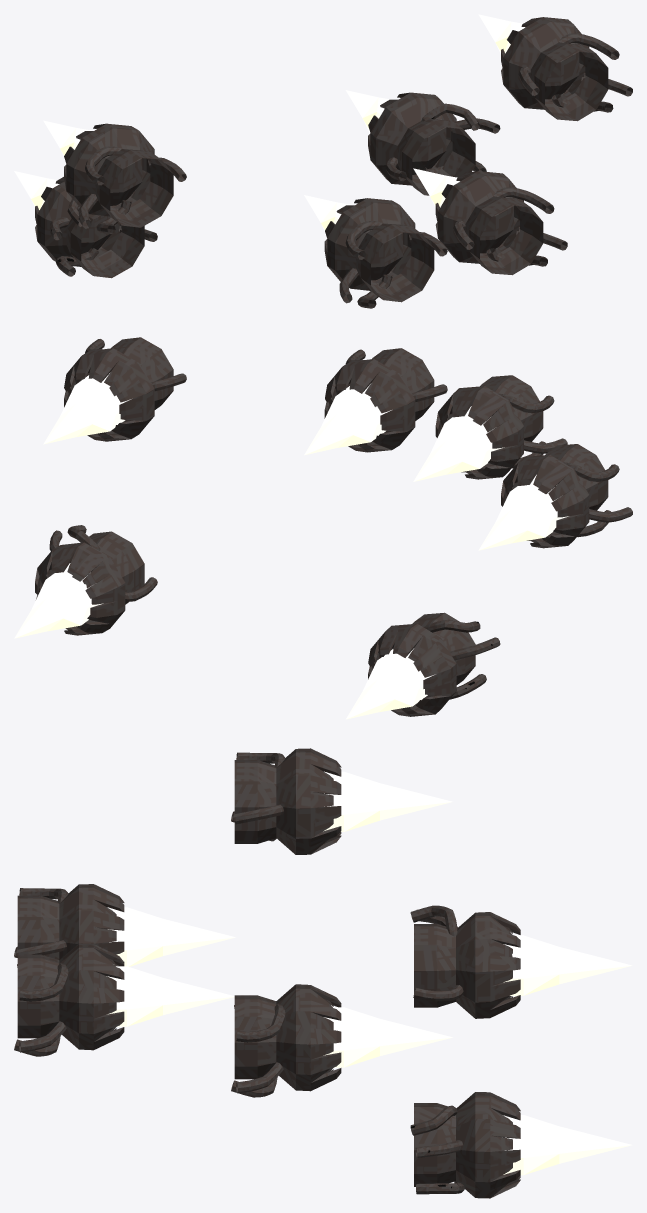
The model's file is chemical-engines.fbx.
3 renders of one model, top to bottom at view 1: azimuth 30°, elevation 25°; view 2: azimuth 150°, elevation 25°; view 3: azimuth 270°, elevation 25°, orthographic. The views are drawn at different scales.
Parts seen in each view (by area): view 1: EngineTier1_Chemical, EngineTier1_Chemical_EngineSmallArm, EngineTier1_Chemical_EngineLargeArm, EngineTier1_Chemical_Jet, EngineTier1_Chemical_Jet_EngineSmallArm, EngineTier1_Chemical_Jet_EngineLargeArm; view 2: EngineTier1_Chemical_EngineLargeArm, EngineTier1_Chemical_EngineSmallArm, EngineTier1_Chemical, EngineTier1_Chemical_Jet_EngineLargeArm, EngineTier1_Chemical_Jet_EngineSmallArm, EngineTier1_Chemical_Jet; view 3: EngineTier1_Chemical_EngineSmallArm, EngineTier1_Chemical_EngineLargeArm, EngineTier1_Chemical, EngineTier1_Chemical_Jet_EngineLargeArm, EngineTier1_Chemical_Jet_EngineSmallArm, EngineTier1_Chemical_Jet.
Boxes of the visible parts, <box> form: EngineTier1_Chemical: <box>324,171,567,308</box>; EngineTier1_Chemical_EngineSmallArm: <box>64,17,632,234</box>; EngineTier1_Chemical_EngineLargeArm: <box>35,92,500,278</box>; EngineTier1_Chemical_Jet: <box>304,168,459,231</box>; EngineTier1_Chemical_Jet_EngineSmallArm: <box>43,14,525,156</box>; EngineTier1_Chemical_Jet_EngineLargeArm: <box>14,90,390,209</box>; EngineTier1_Chemical_EngineLargeArm: <box>35,525,500,716</box>; EngineTier1_Chemical_EngineSmallArm: <box>64,337,632,548</box>; EngineTier1_Chemical: <box>324,348,567,479</box>; EngineTier1_Chemical_Jet_EngineLargeArm: <box>14,563,435,719</box>; EngineTier1_Chemical_Jet_EngineSmallArm: <box>43,373,568,550</box>; EngineTier1_Chemical_Jet: <box>304,384,504,481</box>; EngineTier1_Chemical_EngineSmallArm: <box>231,748,341,1097</box>; EngineTier1_Chemical_EngineLargeArm: <box>410,905,520,1198</box>; EngineTier1_Chemical: <box>14,884,124,1056</box>; EngineTier1_Chemical_Jet_EngineLargeArm: <box>503,935,632,1175</box>; EngineTier1_Chemical_Jet_EngineSmallArm: <box>323,771,452,1067</box>; EngineTier1_Chemical_Jet: <box>106,907,235,1026</box>.
Bounding box in the file's own units: 1626 × 595 × 1428.
